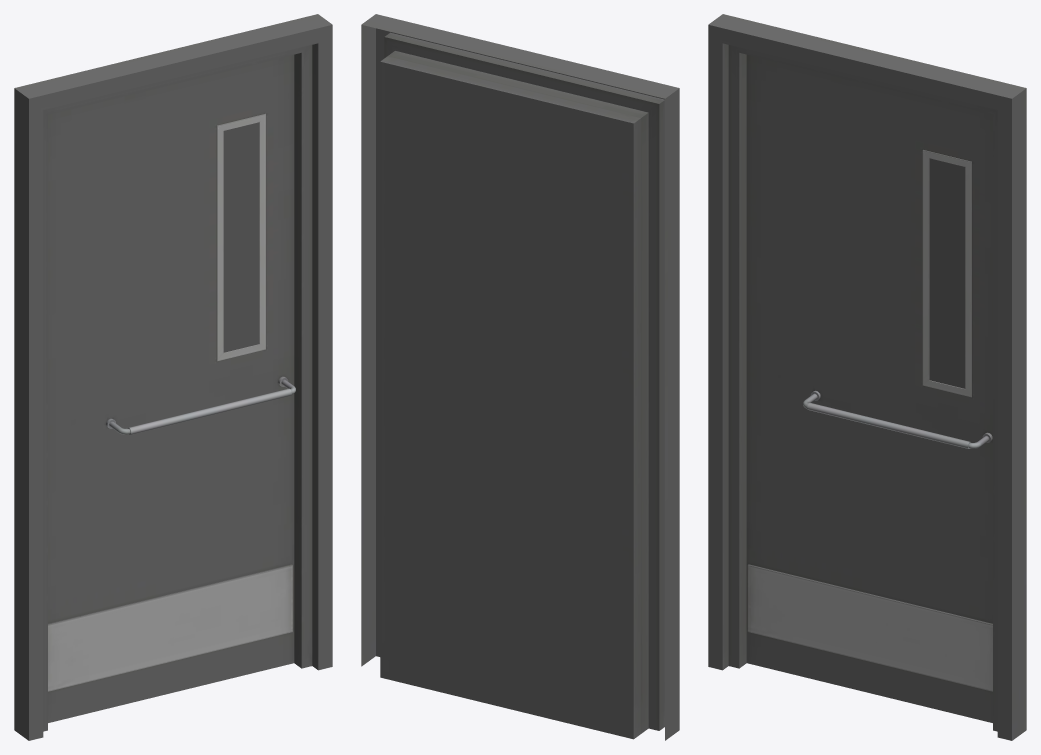
File: door.glb
The picture shows the model from 3 angles, left to right: view 1: azimuth 30°, elevation 25°; view 2: azimuth 150°, elevation 25°; view 3: azimuth 330°, elevation 25°; orthographic projection.
Parts seen in each view (by area): view 1: Object_3, Object_2; view 2: Object_3; view 3: Object_3, Object_2.
Part boxes in pixels (x1,y1,x2,y2): Object_3: (14, 14, 332, 740); Object_2: (223, 122, 259, 352); Object_3: (361, 14, 679, 740); Object_3: (708, 14, 1026, 740); Object_2: (929, 158, 965, 388).
Size of the model in its own units: 1.04 by 2.1 by 0.1334.
Materials: 2 (1 with a texture image).
